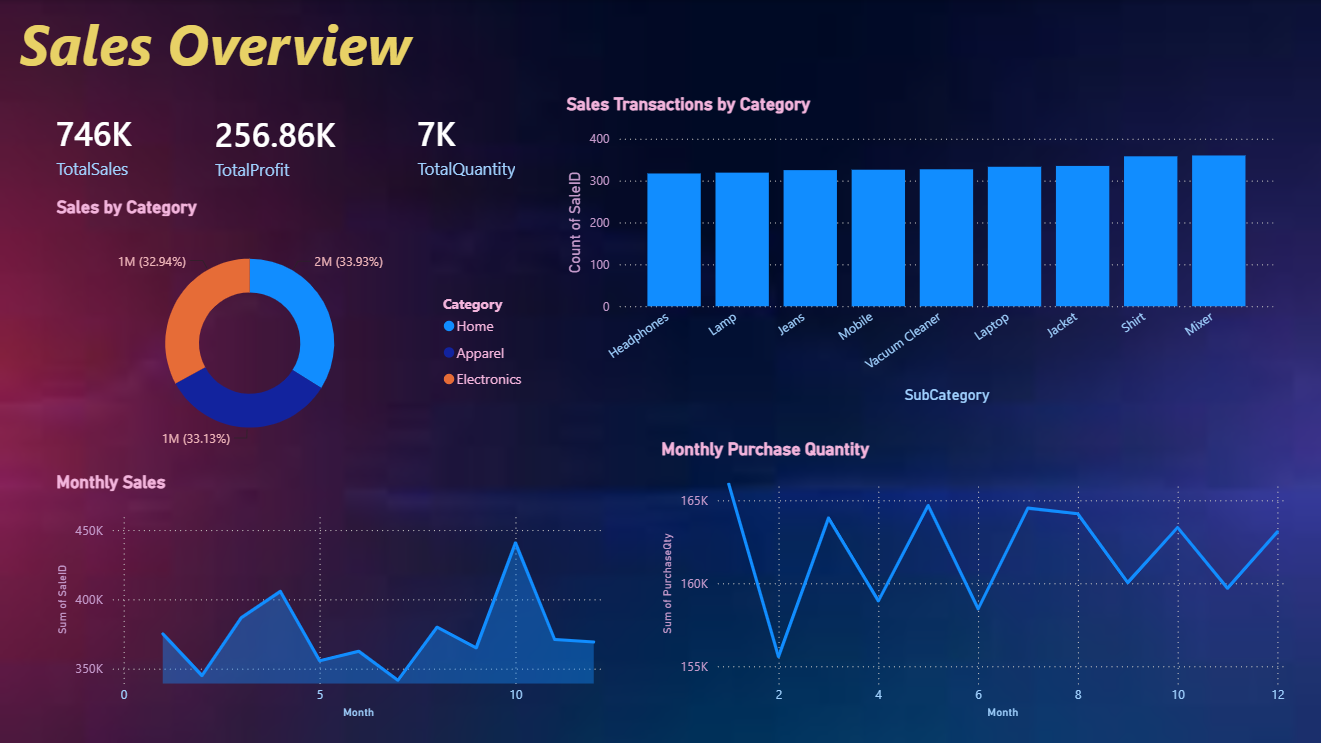

What the dashboard file says about the page in this screenshot:
{"tool":"powerbi","page":{"name":"Sales Overview","canvas":[1280,720],"ordinal":0},"visuals":[{"type":"cardVisual","title":"Total Sales","fields":{"Data":["Measures (2).TotalSales"]},"box":[30.3,90.8,169.1,96.1],"z":0},{"type":"donutChart","title":"Sales by Category","fields":{"Category":["Product_Dim.Category"],"Y":["Sum(Sales_Fact.SaleID)"]},"box":[55.5,189.2,458,248.9],"z":1000},{"type":"areaChart","title":"Monthly Sales","fields":{"Category":["Calendar_Dim.Month"],"Y":["Sum(Sales_Fact.SaleID)"]},"box":[55.5,455.1,528.6,238.5],"z":2000},{"type":"columnChart","title":"Sales Transactions by Category","fields":{"Category":["Product_Dim.SubCategory"],"Y":["CountNonNull(Sales_Fact.SaleID)"]},"box":[547.6,91,682.7,298.7],"z":3000},{"type":"cardVisual","fields":{"Data":["Measures (2).TotalProfit"]},"box":[183.5,91,169.2,98.1],"z":5000},{"type":"cardVisual","fields":{"Data":["Measures (2).TotalQuantity"]},"box":[378.3,89.6,169.2,98.1],"z":6000},{"type":"textbox","box":[14.2,0,398.2,89.6],"z":7000},{"type":"lineChart","title":"Monthly Purchase Quantity","fields":{"Category":["Calendar_Dim.Month"],"Y":["Sum(Inventory_Fact.PurchaseQty)"]},"box":[640,423.8,604.4,270.2],"z":8000}]}

Visuals, with their boxes in screenshot pixels (x1, y1, x2, y2), scaled from the page's 1280x720 canvas onto the 1321x743 screenshot:
"Total Sales" cardVisual: l=31, t=94, r=206, b=193
"Sales by Category" donutChart: l=57, t=195, r=530, b=452
"Monthly Sales" areaChart: l=57, t=470, r=603, b=716
"Sales Transactions by Category" columnChart: l=565, t=94, r=1270, b=402
cardVisual - Measures (2).TotalProfit: l=189, t=94, r=364, b=195
cardVisual - Measures (2).TotalQuantity: l=390, t=92, r=565, b=194
textbox: l=15, t=0, r=426, b=92
"Monthly Purchase Quantity" lineChart: l=660, t=437, r=1284, b=716
